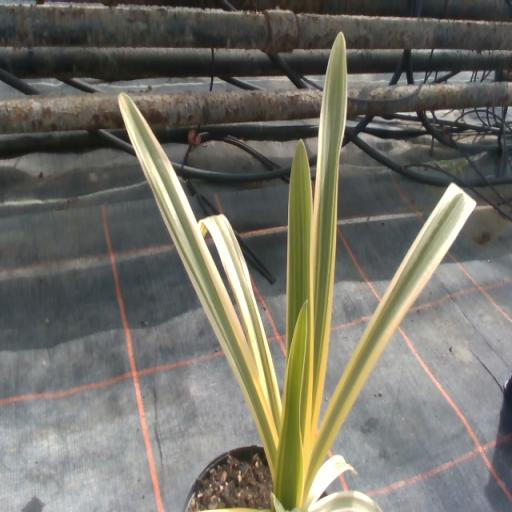Agapanthus-praecox: (120, 94, 277, 465), (308, 183, 475, 477), (199, 214, 281, 429), (310, 33, 346, 422), (274, 301, 306, 507), (288, 140, 312, 351), (304, 455, 355, 509), (309, 491, 381, 511)
